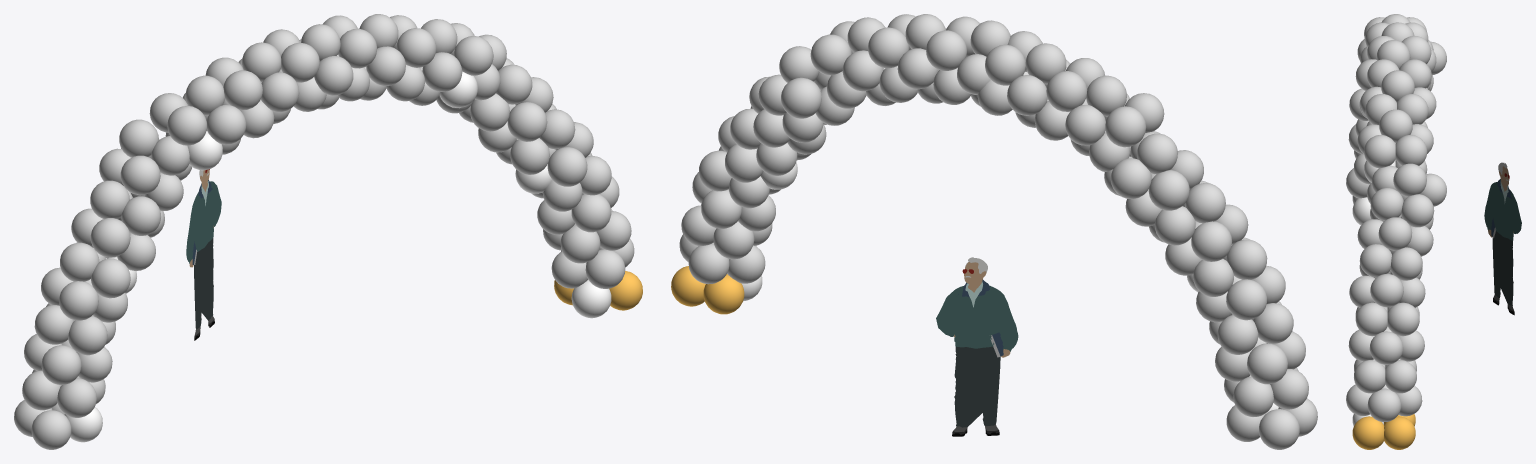
The model's file is balloon_arch.obj.
3 renders of one model, left to right at view 1: azimuth 30°, elevation 25°; view 2: azimuth 150°, elevation 25°; view 3: azimuth 270°, elevation 25°, orthographic. The views are drawn at different scales.
Visible parts, largest first — view 1: Mesh1 Steve1 Model, Mesh50 Ball49 Group16 Group13 Group11 Group_14_1 Model, Mesh55 Ball54 Group17 Group13 Group11 Group_14_1 Model, Mesh99 Ball98 Group29 Group11 Group_14_1 Model, Mesh35 Ball34 Group10 Group5 Group_14_1 Model, Mesh63 Ball62 Group19 Group11 Group_14_1 Model, Mesh94 Ball93 Group28 Group11 Group_14_1 Model, Mesh19 Ball18 Group6 Group5 Group_14_1 Model, Mesh83 Ball82 Group25 Group20 Group11 Group_14_1 Model, Mesh67 Ball66 Group21 Group20 Group11 Group_14_1 Model, Mesh59 Ball58 Group18 Group13 Group11 Group_14_1 Model, Mesh80 Ball79 Group24 Group20 Group11 Group_14_1 Model (+58 smaller); view 2: Mesh1 Steve1 Model, Mesh24 Ball23 Group7 Group5 Group_14_1 Model, Mesh98 Ball97 Group29 Group11 Group_14_1 Model, Mesh62 Ball61 Group19 Group11 Group_14_1 Model, Mesh97 Ball96 Group28 Group11 Group_14_1 Model, Mesh82 Ball81 Group25 Group20 Group11 Group_14_1 Model, Mesh54 Ball53 Group17 Group13 Group11 Group_14_1 Model, Mesh53 Ball52 Group16 Group13 Group11 Group_14_1 Model, Mesh77 Ball76 Group23 Group20 Group11 Group_14_1 Model, Mesh78 Ball77 Group24 Group20 Group11 Group_14_1 Model, Mesh66 Ball65 Group21 Group20 Group11 Group_14_1 Model, Mesh113 Ball112 Group33 Group31 Group_14_1 Model (+57 smaller); view 3: Mesh1 Steve1 Model, Mesh34 Ball33 Group10 Group5 Group_14_1 Model, Mesh2 Ball1 Group1 Group_14_1 Model, Mesh18 Ball17 Group6 Group5 Group_14_1 Model, Mesh17 Ball16 Group4 Group_14_1 Model, Mesh25 Ball24 Group7 Group5 Group_14_1 Model, Mesh11 Ball10 Group3 Group_14_1 Model, Mesh7 Ball6 Group2 Group_14_1 Model, Mesh29 Ball28 Group8 Group5 Group_14_1 Model, Mesh123 Ball122 Group36 Group31 Group_14_1 Model, Mesh14 Ball13 Group4 Group_14_1 Model, Mesh30 Ball29 Group9 Group5 Group_14_1 Model (+41 smaller).
Part boxes in pixels (x1,y1,x2,y2): Mesh1 Steve1 Model: (186,169,221,340); Mesh50 Ball49 Group16 Group13 Group11 Group_14_1 Model: (120,155,160,195); Mesh55 Ball54 Group17 Group13 Group11 Group_14_1 Model: (90,218,130,257); Mesh99 Ball98 Group29 Group11 Group_14_1 Model: (41,345,81,384); Mesh35 Ball34 Group10 Group5 Group_14_1 Model: (547,147,587,186); Mesh63 Ball62 Group19 Group11 Group_14_1 Model: (31,410,71,449); Mesh94 Ball93 Group28 Group11 Group_14_1 Model: (59,281,98,320); Mesh19 Ball18 Group6 Group5 Group_14_1 Model: (507,102,547,141); Mesh83 Ball82 Group25 Group20 Group11 Group_14_1 Model: (167,105,206,145); Mesh67 Ball66 Group21 Group20 Group11 Group_14_1 Model: (223,70,262,110); Mesh59 Ball58 Group18 Group13 Group11 Group_14_1 Model: (91,258,130,298); Mesh80 Ball79 Group24 Group20 Group11 Group_14_1 Model: (206,105,246,144); Mesh1 Steve1 Model: (936,257,1018,436); Mesh24 Ball23 Group7 Group5 Group_14_1 Model: (781,77,821,118); Mesh98 Ball97 Group29 Group11 Group_14_1 Model: (1247,343,1287,384); Mesh62 Ball61 Group19 Group11 Group_14_1 Model: (1259,409,1299,449); Mesh97 Ball96 Group28 Group11 Group_14_1 Model: (1226,279,1266,320); Mesh82 Ball81 Group25 Group20 Group11 Group_14_1 Model: (1105,106,1146,147); Mesh54 Ball53 Group17 Group13 Group11 Group_14_1 Model: (1191,221,1232,261); Mesh53 Ball52 Group16 Group13 Group11 Group_14_1 Model: (1148,170,1189,210); Mesh77 Ball76 Group23 Group20 Group11 Group_14_1 Model: (1007,75,1047,115); Mesh78 Ball77 Group24 Group20 Group11 Group_14_1 Model: (1065,104,1105,145); Mesh66 Ball65 Group21 Group20 Group11 Group_14_1 Model: (1046,71,1087,111); Mesh113 Ball112 Group33 Group31 Group_14_1 Model: (926,30,966,70); Mesh1 Steve1 Model: (1484,162,1521,315); Mesh34 Ball33 Group10 Group5 Group_14_1 Model: (1370,273,1403,307); Mesh2 Ball1 Group1 Group_14_1 Model: (1369,331,1403,364); Mesh18 Ball17 Group6 Group5 Group_14_1 Model: (1378,217,1412,250); Mesh17 Ball16 Group4 Group_14_1 Model: (1387,302,1419,336); Mesh25 Ball24 Group7 Group5 Group_14_1 Model: (1393,163,1426,196); Mesh11 Ball10 Group3 Group_14_1 Model: (1367,388,1401,421); Mesh7 Ball6 Group2 Group_14_1 Model: (1354,360,1385,393); Mesh29 Ball28 Group8 Group5 Group_14_1 Model: (1401,194,1434,227); Mesh123 Ball122 Group36 Group31 Group_14_1 Model: (1364,135,1395,168); Mesh14 Ball13 Group4 Group_14_1 Model: (1355,302,1387,336); Mesh30 Ball29 Group9 Group5 Group_14_1 Model: (1390,247,1422,280).
Bounding box in the file's own units: 243 × 131 × 72.36.
